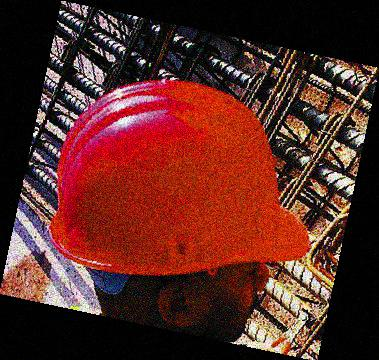helmet: (49, 77, 311, 347)
